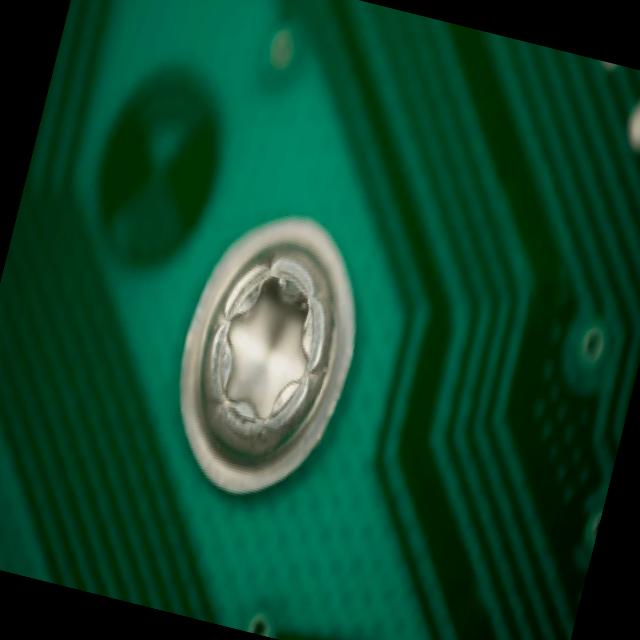Torx: (180, 230, 358, 478)
